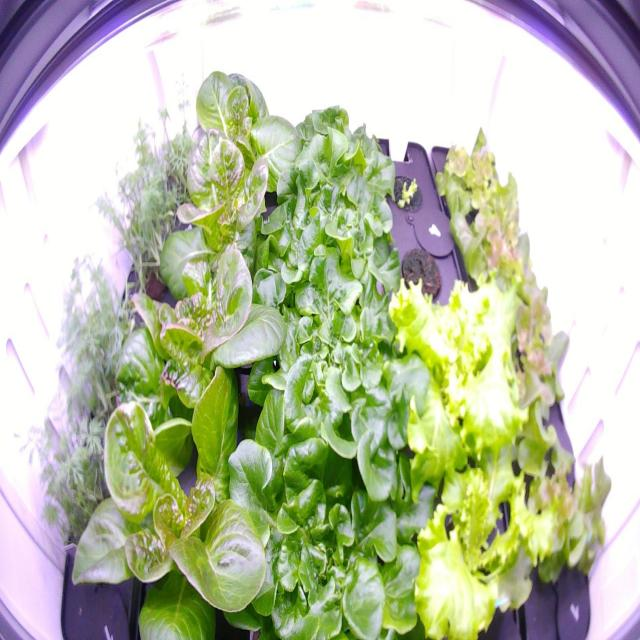pod: (389, 228, 447, 319)
young: (66, 360, 290, 639), (107, 211, 295, 434), (150, 117, 300, 320), (174, 54, 307, 220)
